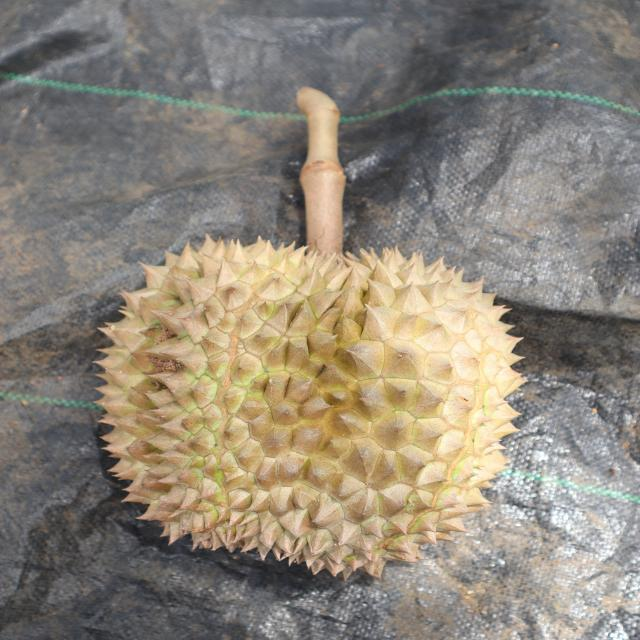mature: (90, 238, 525, 579)
